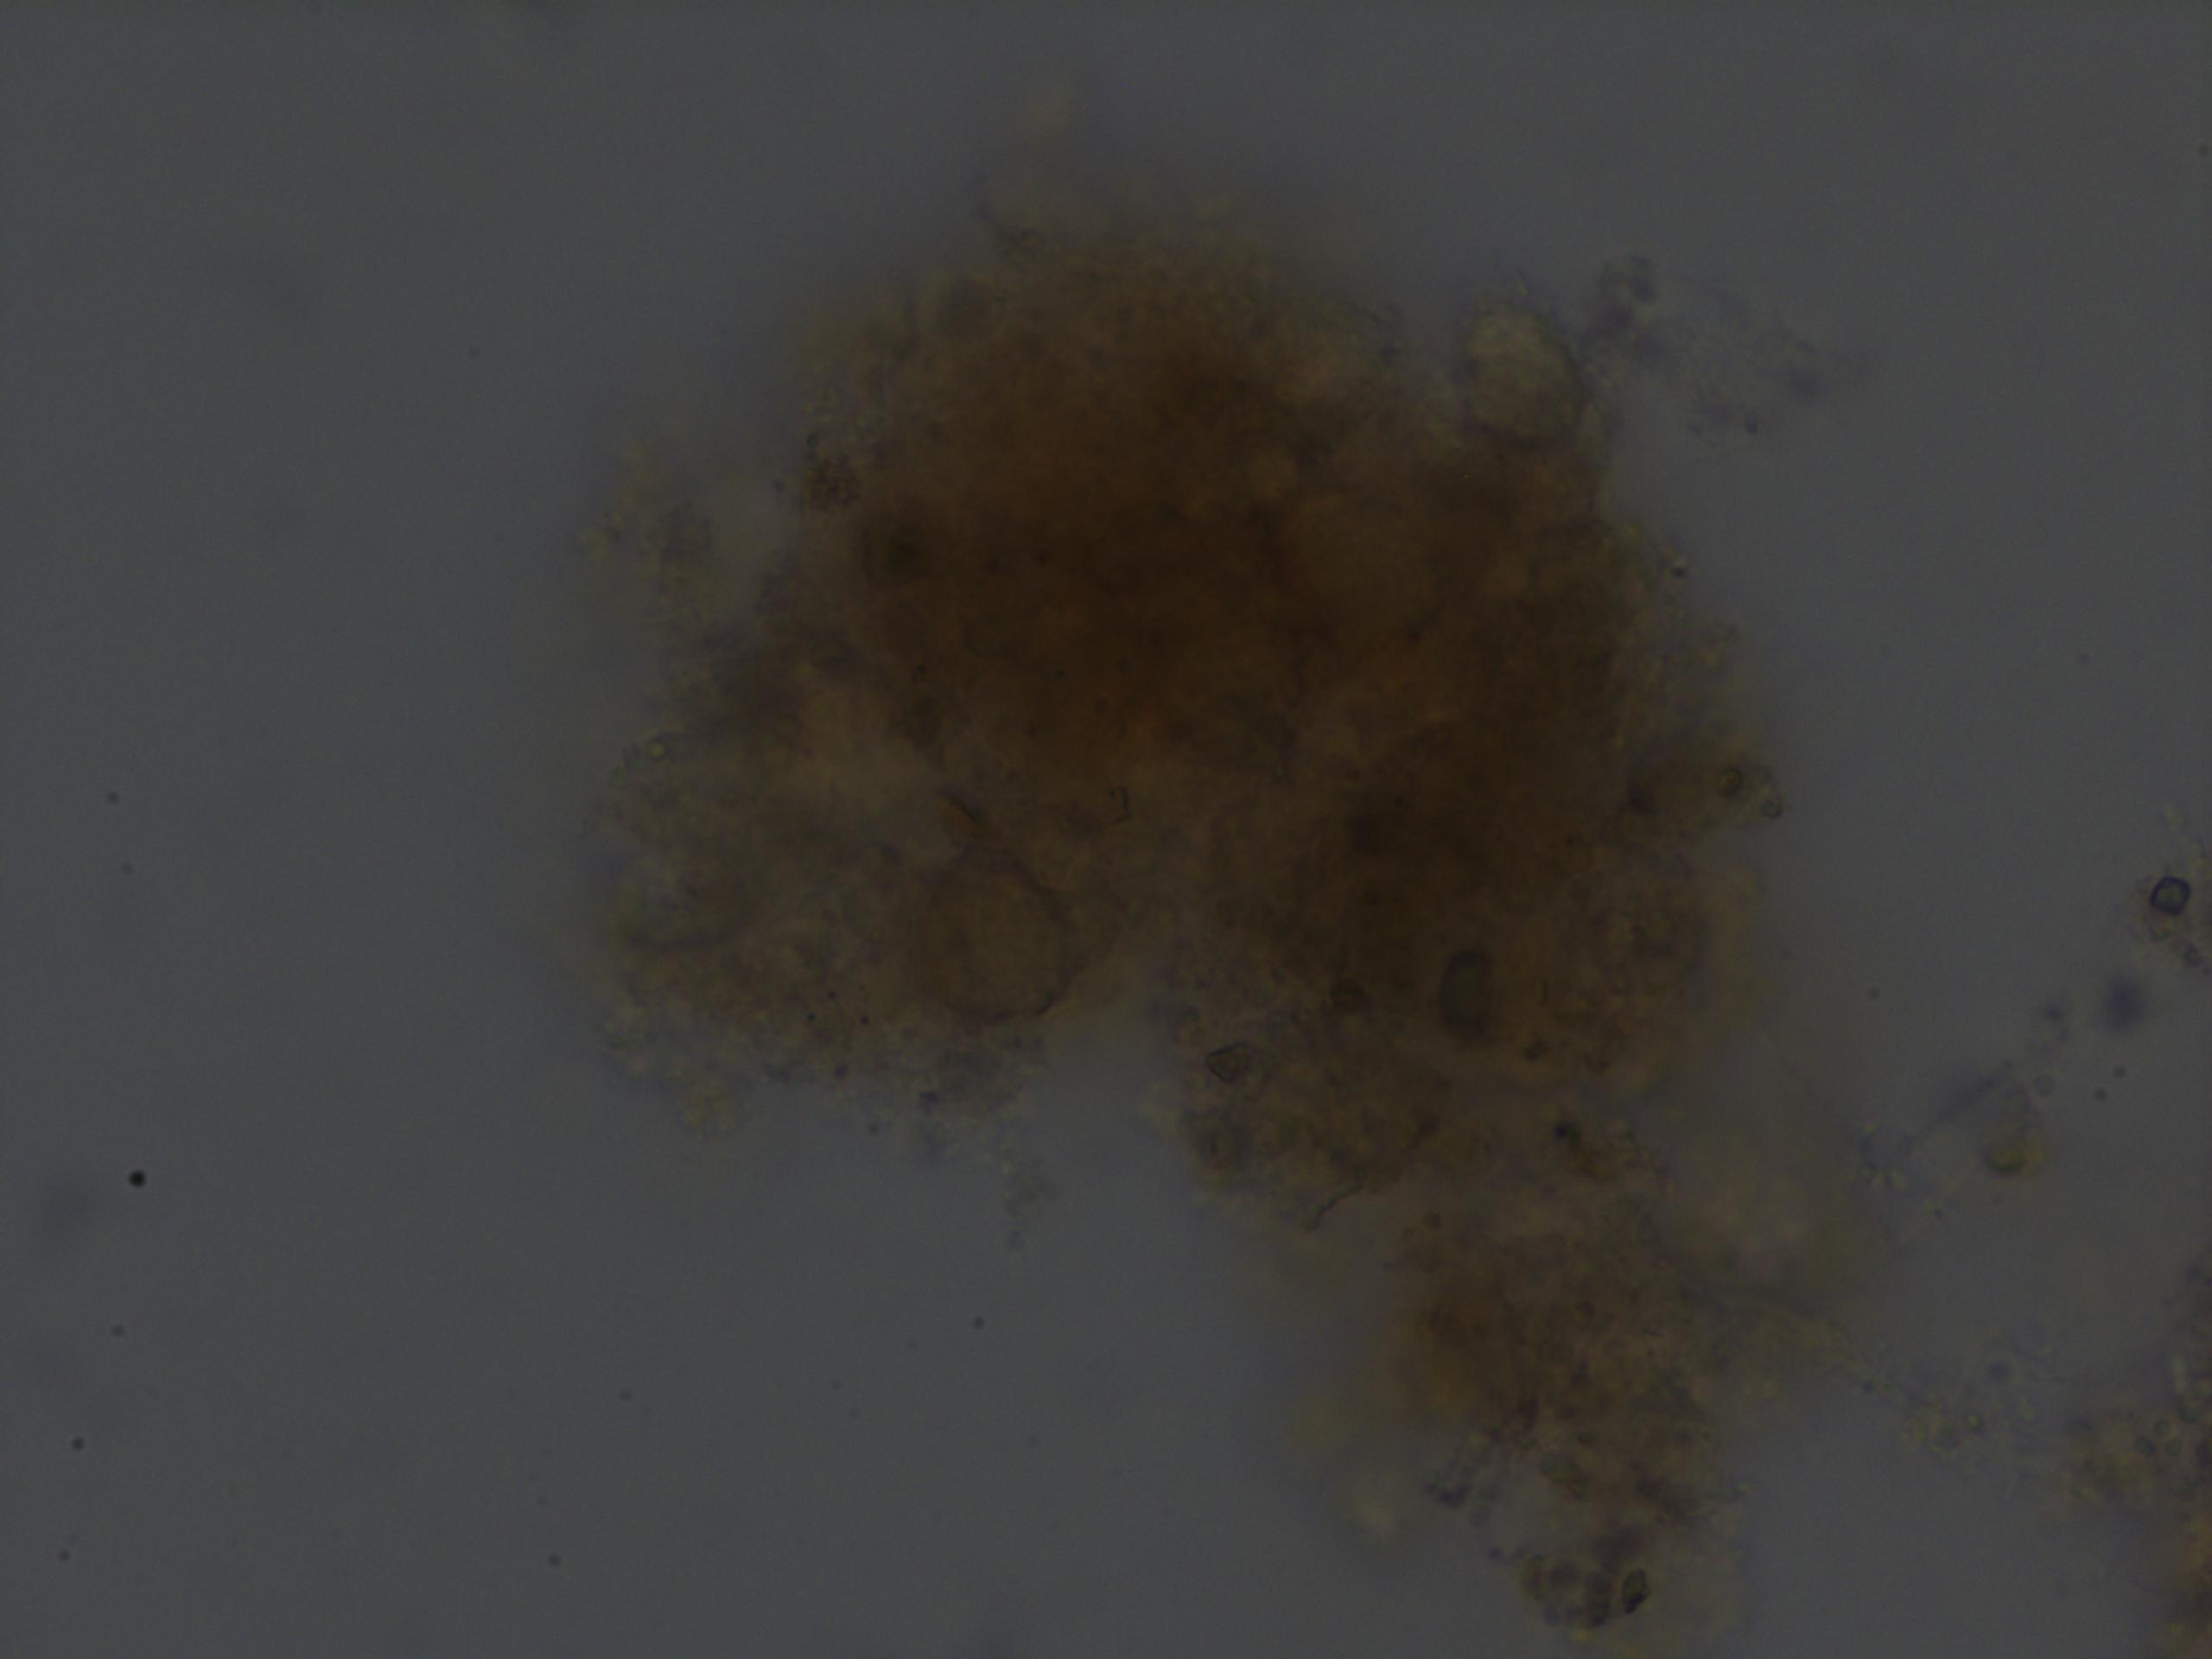spherical_floc: (571, 199, 1797, 1643)
